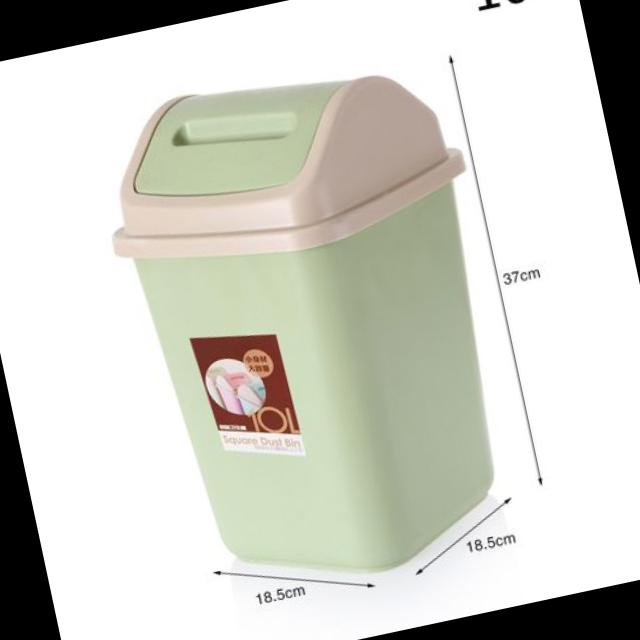dustbin: (76, 29, 550, 621)
